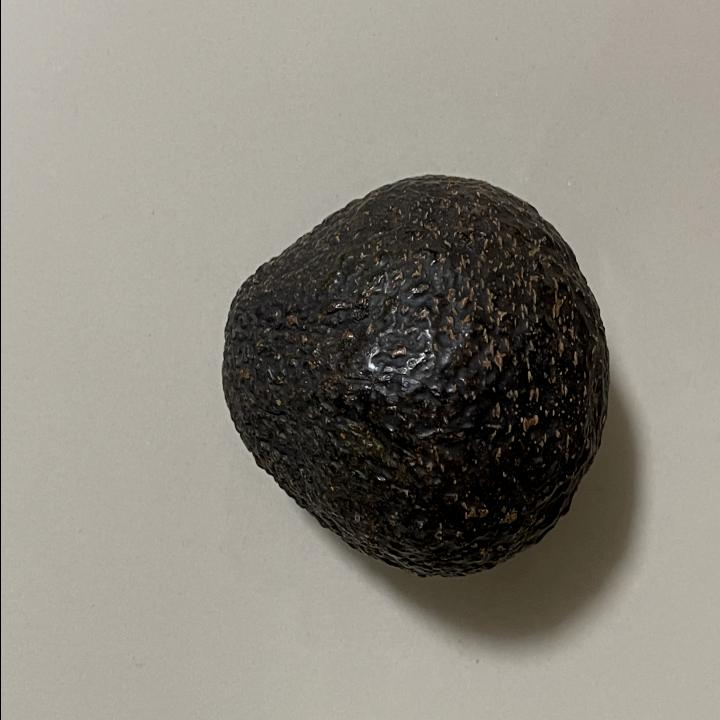Level3: (213, 163, 617, 592)
